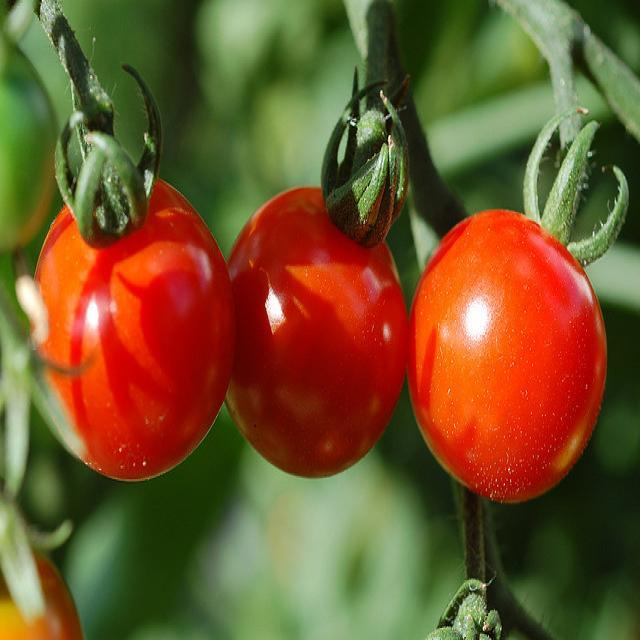kirmizi: (18, 144, 604, 504)
